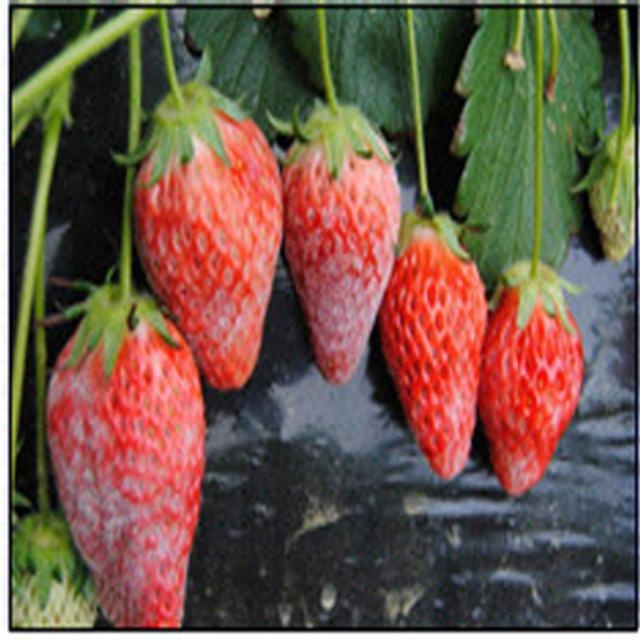Powdery Mildew Fruit: (46, 286, 206, 627), (132, 90, 282, 389), (280, 112, 406, 388)
